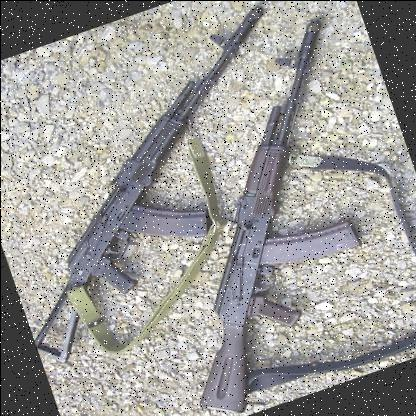rifle: (90, 10, 416, 416), (0, 6, 356, 372)
